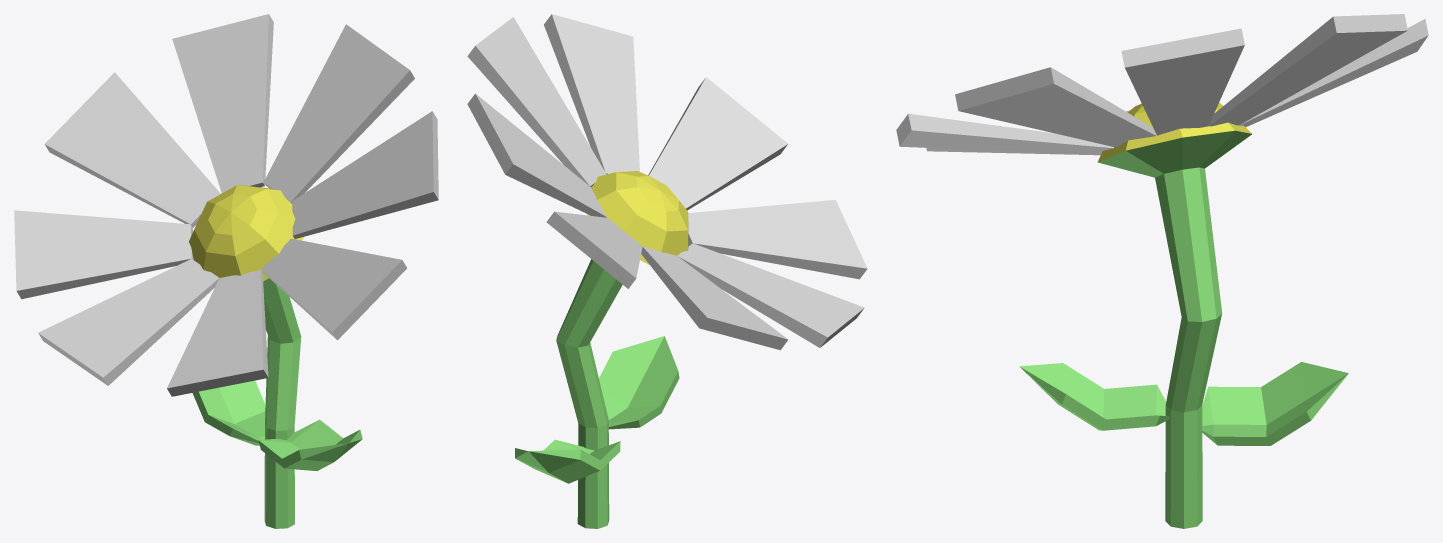
The model's file is FLOWER_V1.fbx.
The picture shows the model from 3 angles, left to right: view 1: azimuth 30°, elevation 25°; view 2: azimuth 150°, elevation 25°; view 3: azimuth 270°, elevation 25°; orthographic projection. The views are drawn at different scales.
Visible parts, largest first — view 1: Flowers; view 2: Flowers; view 3: Flowers.
Part boxes in pixels (x1,y1,x2,y2): Flowers: (14,14,438,528); Flowers: (467,14,867,528); Flowers: (896,14,1428,528).
Bounding box in the file's own units: 411 × 522 × 462.
